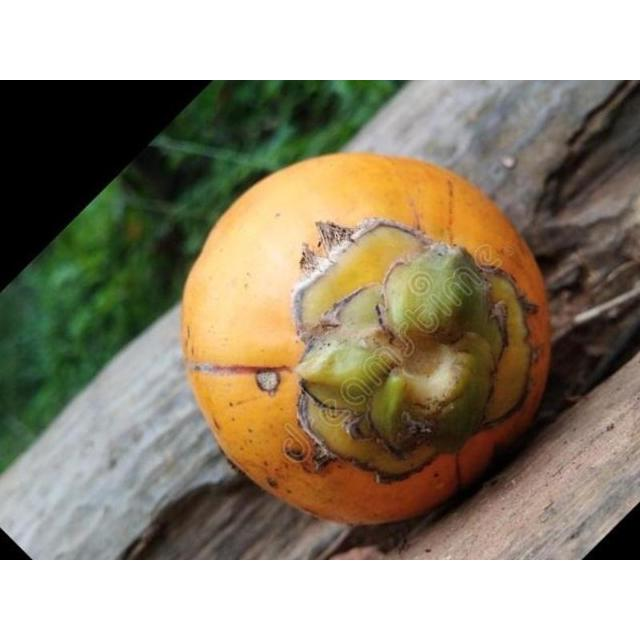good: (178, 150, 555, 533)
